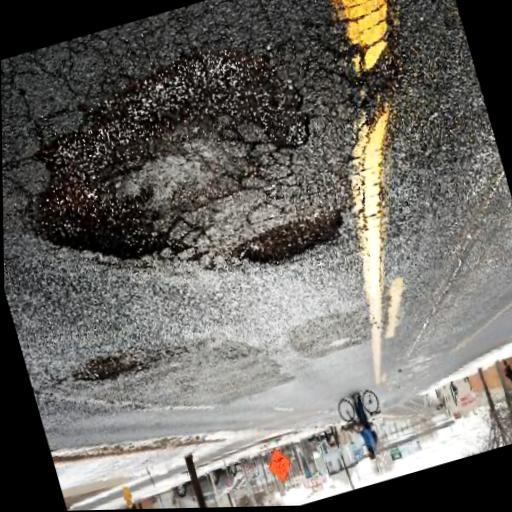pothole: (0, 23, 341, 298), (226, 204, 356, 280), (70, 341, 159, 394)
